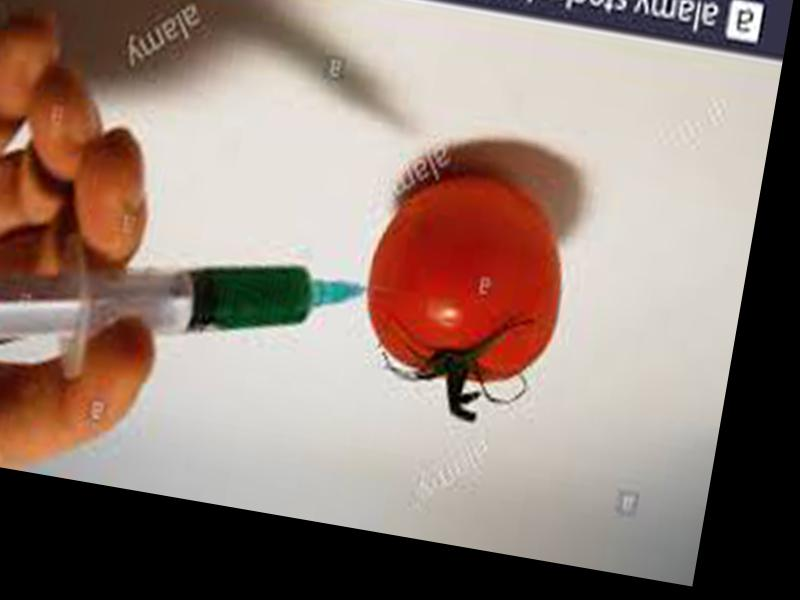Tomato: (354, 161, 575, 392)
